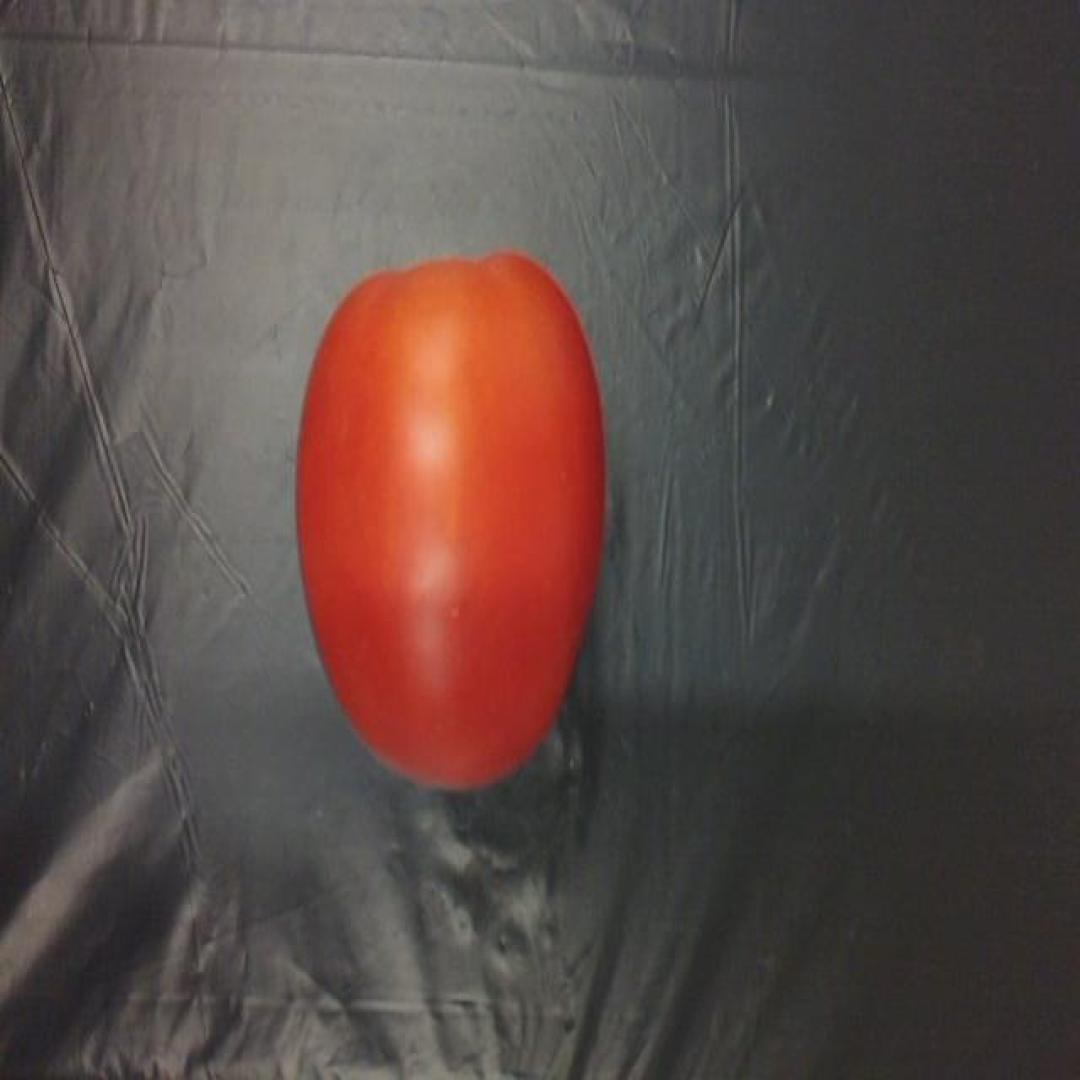matang: (292, 256, 604, 795)
